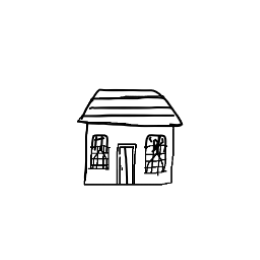closed_window: (141, 130, 170, 178), (88, 131, 112, 174)
door: (113, 139, 140, 192)
roof: (75, 77, 186, 131)
small_house: (1, 2, 260, 260)
wall: (82, 118, 178, 189)
